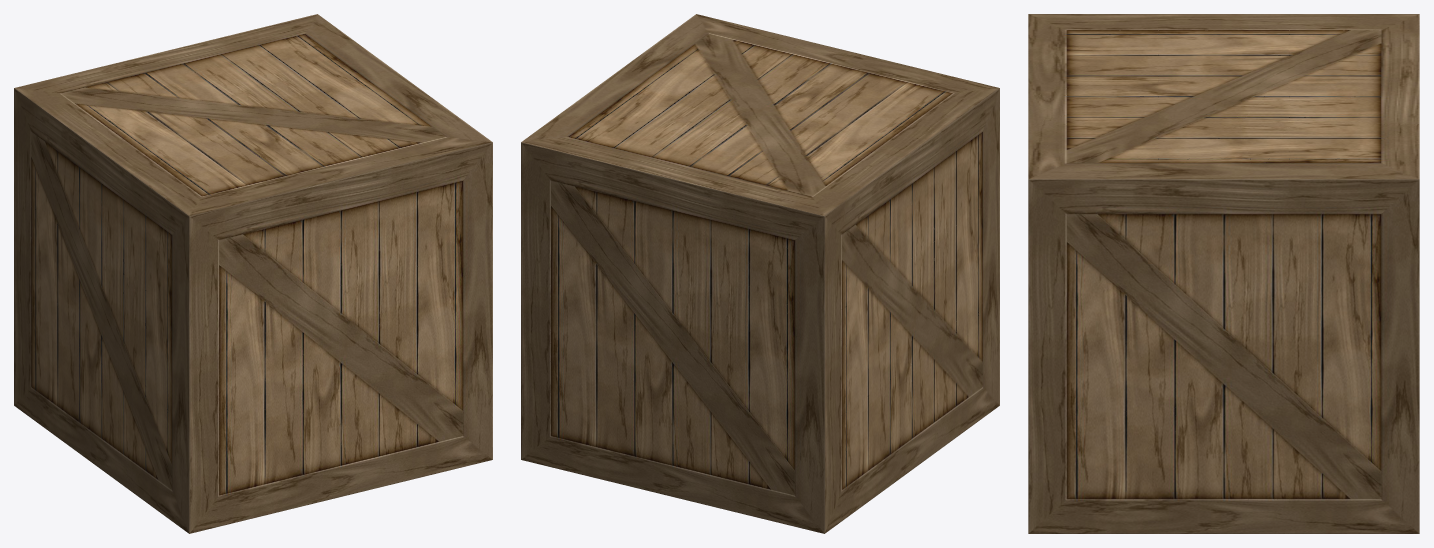
The model's file is box_break.fbx.
3 views of the same model, side by side, from view 1: azimuth 30°, elevation 25°; view 2: azimuth 150°, elevation 25°; view 3: azimuth 270°, elevation 25° (orthographic). The views are drawn at different scales.
Parts seen in each view (by area): view 1: box_piece_004_geo, box_piece_003_geo, box_piece_001_geo, box_piece_005_geo, box_piece_002_geo; view 2: box_piece_002_geo, box_piece_005_geo, box_piece_004_geo, box_piece_001_geo, box_piece_003_geo; view 3: box_piece_001_geo, box_piece_005_geo, box_piece_003_geo, box_piece_004_geo, box_piece_002_geo.
Boxes of the visible parts, x1=… form: box_piece_004_geo: x1=33, y1=102, x2=357, y2=432; box_piece_003_geo: x1=78, y1=318, x2=492, y2=533; box_piece_001_geo: x1=239, y1=67, x2=492, y2=357; box_piece_005_geo: x1=14, y1=14, x2=390, y2=118; box_piece_002_geo: x1=14, y1=105, x2=99, y2=452; box_piece_002_geo: x1=521, y1=219, x2=909, y2=533; box_piece_005_geo: x1=521, y1=89, x2=844, y2=354; box_piece_004_geo: x1=770, y1=51, x2=999, y2=339; box_piece_001_geo: x1=594, y1=14, x2=847, y2=119; box_piece_003_geo: x1=889, y1=304, x2=999, y2=486; box_piece_001_geo: x1=1028, y1=90, x2=1256, y2=419; box_piece_005_geo: x1=1229, y1=14, x2=1419, y2=416; box_piece_003_geo: x1=1028, y1=402, x2=1285, y2=533; box_piece_004_geo: x1=1028, y1=14, x2=1375, y2=96; box_piece_002_geo: x1=1248, y1=416, x2=1419, y2=533.
Size of the model in its own units: 1.06 by 1.06 by 1.06.
1 material, 1 textured.
